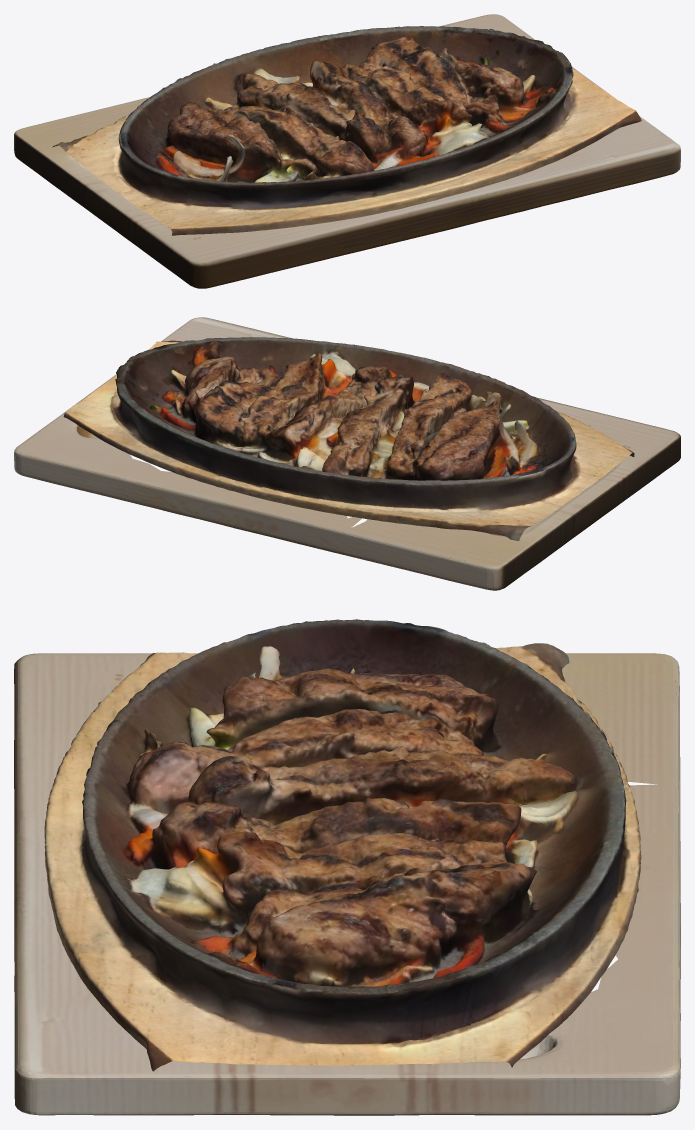
The model's file is Stake.glb.
3 views of the same model, one above another, from view 1: azimuth 30°, elevation 25°; view 2: azimuth 150°, elevation 25°; view 3: azimuth 270°, elevation 25° (orthographic). The views are drawn at different scales.
Parts seen in each view (by area): view 1: 3DModel, world; view 2: 3DModel, world; view 3: 3DModel, world.
Boxes of the visible parts, x1,y1,x2,y2 form: 3DModel: (52, 26, 641, 235); world: (14, 14, 680, 288); 3DModel: (63, 337, 634, 540); world: (14, 317, 680, 590); 3DModel: (44, 619, 641, 1071); world: (14, 653, 680, 1115).
Bounding box in the file's own units: 0.4232 × 0.0659 × 0.2814.
Materials: 2 (2 with a texture image).
